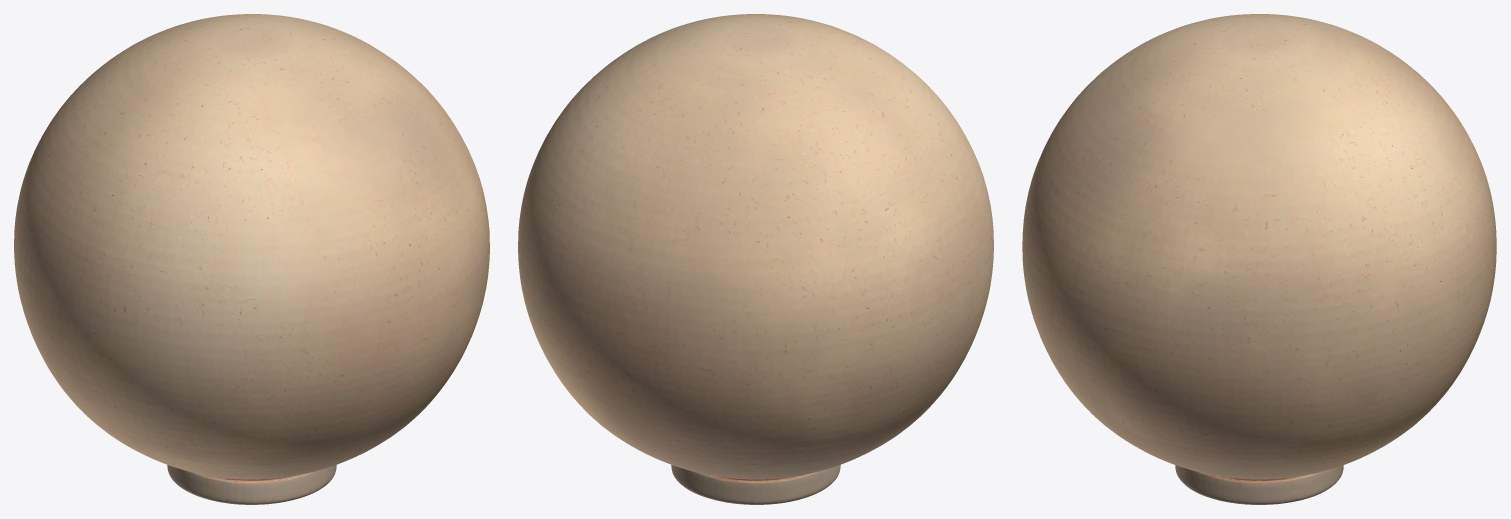
The model's file is designer_bedside_lamp.raw.glb.
3 renders of one model, left to right at view 1: azimuth 30°, elevation 25°; view 2: azimuth 150°, elevation 25°; view 3: azimuth 270°, elevation 25°, orthographic.
Parts seen in each view (by area): view 1: world; view 2: world; view 3: world.
Part boxes in pixels (x1,y1,x2,y2): world: [14, 14, 489, 504]; world: [518, 14, 993, 504]; world: [1022, 14, 1496, 504].
Bounding box in the file's own units: 0.9932 × 0.9999 × 0.9939.
1 material, 1 textured.
